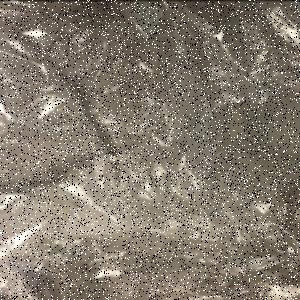Trash: (2, 2, 300, 300)
